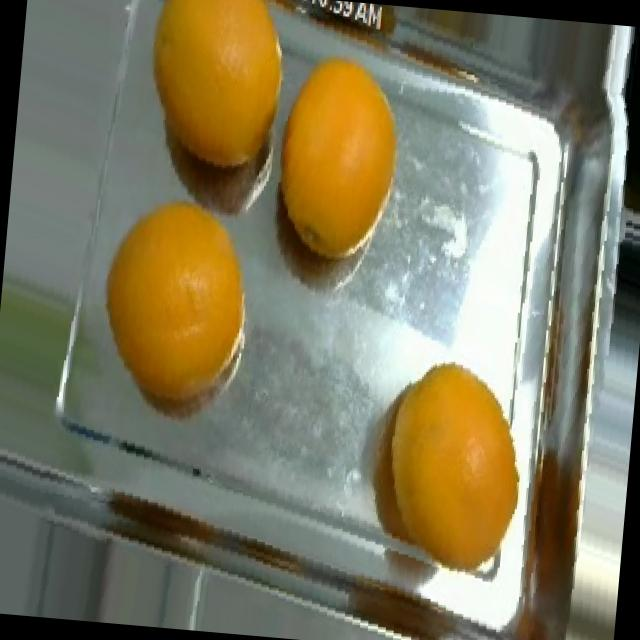Fruit: (70, 168, 274, 411), (272, 31, 422, 258)
